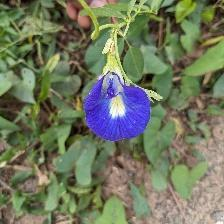shankupushpam: (84, 31, 152, 144)
